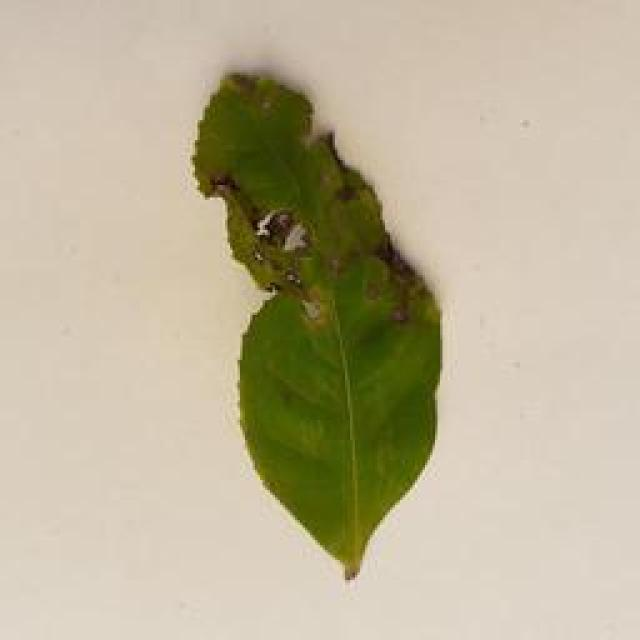Helopeltis: (178, 63, 454, 597)
